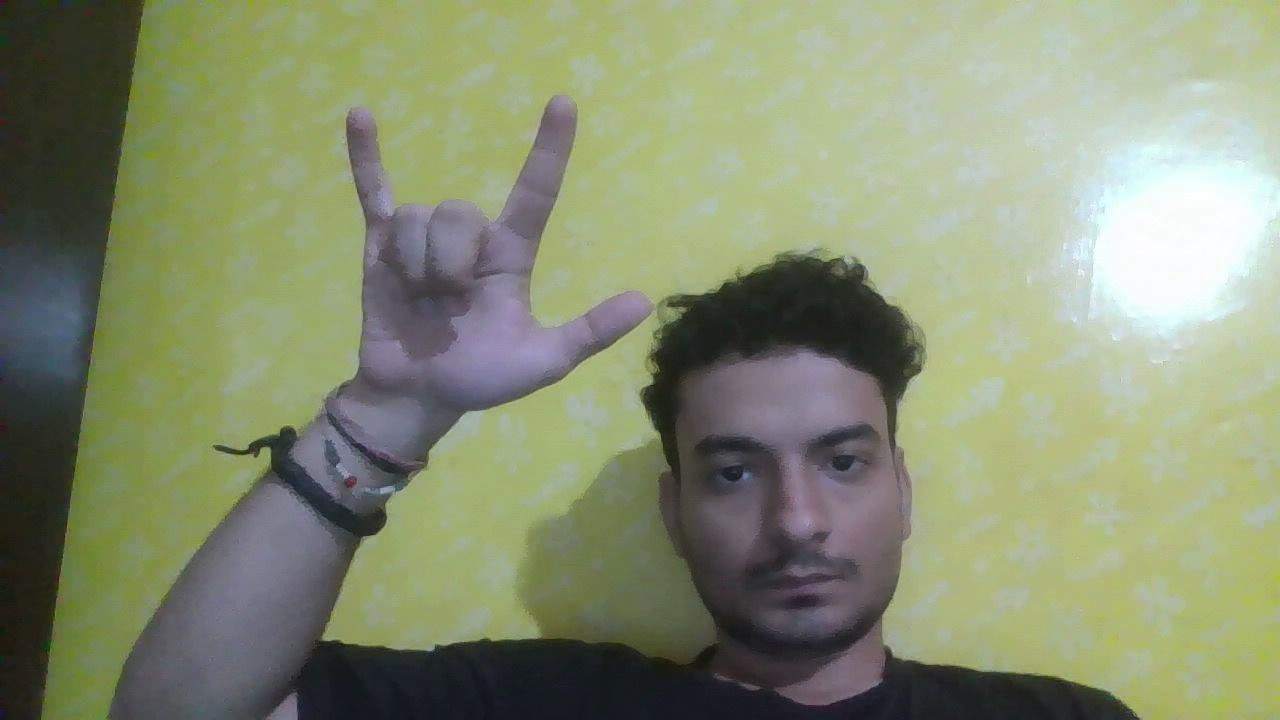Loveyou: (247, 70, 680, 443)
